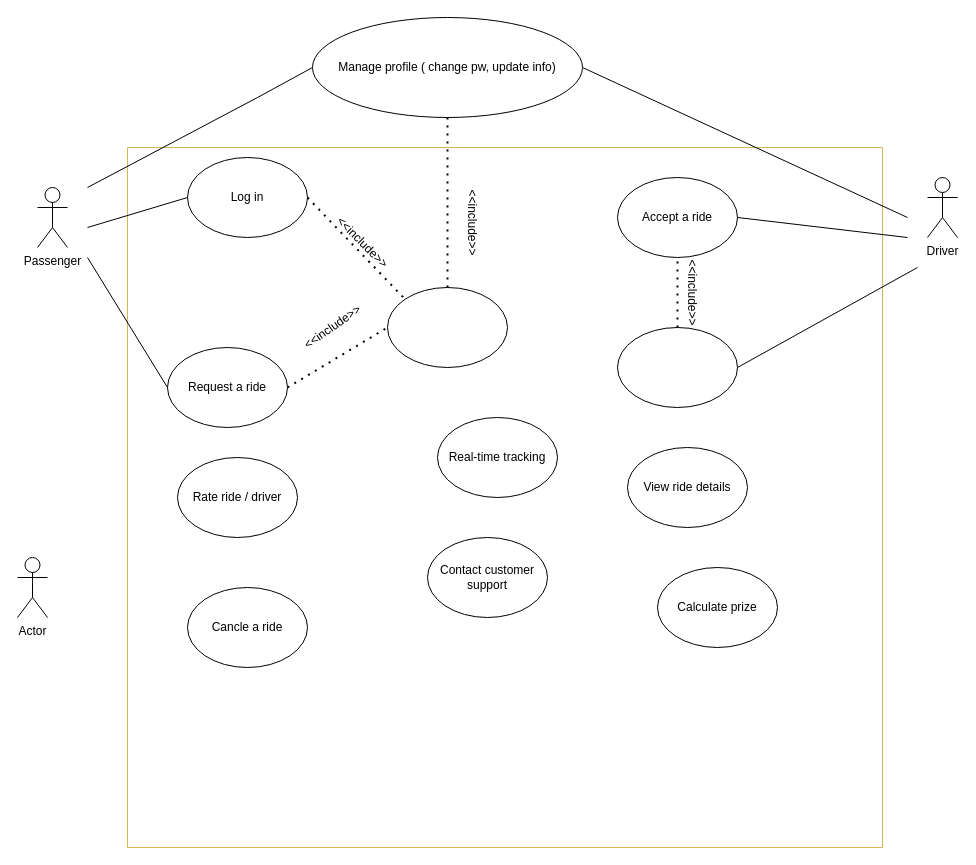
Image size: 976x865. Some labels were removed from this diagram. Here are the shapes that lost their labels. From the top down, the centre of each, then its label:
the point at 447,327: Registration
the point at 677,367: Complete ride
